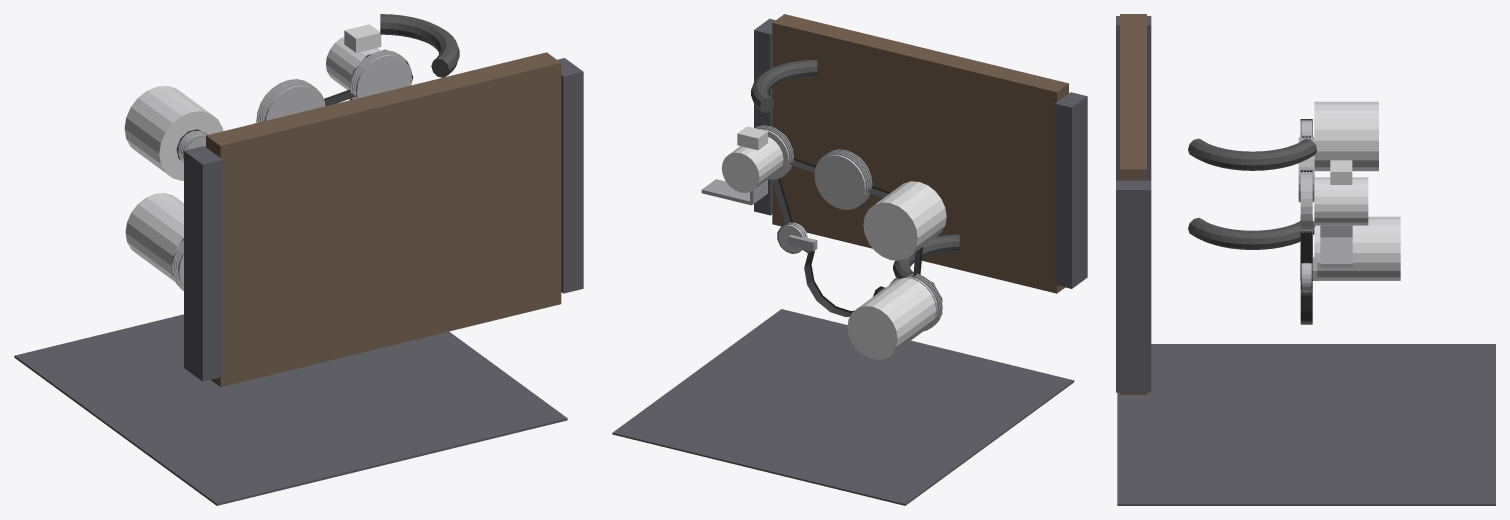
Rendered from access.glb.
The picture shows the model from 3 angles, left to right: view 1: azimuth 30°, elevation 25°; view 2: azimuth 150°, elevation 25°; view 3: azimuth 270°, elevation 25°; orthographic projection. The views are drawn at different scales.
Visible parts, largest first — view 1: radiator-assembly, engine-under-cover, alternator, power-steering-pump, ac-compressor, radiator-hose-upper, water-pump-pulley; view 2: radiator-assembly, engine-under-cover, ac-compressor, alternator, power-steering-pump, water-pump-pulley, accessory-drive-belt, radiator-hose-upper, radiator-hose-lower, power-steering-pump-bracket, accessory-belt-tensioner; view 3: engine-under-cover, radiator-assembly, alternator, ac-compressor, power-steering-pump, radiator-hose-upper, radiator-hose-lower, power-steering-pump-bracket, accessory-drive-belt, accessory-belt-tensioner, water-pump-pulley.
Part boxes in pixels (x1,y1,x2,y2): radiator-assembly: (184,52,583,387); engine-under-cover: (14,314,567,505); alternator: (124,86,223,180); power-steering-pump: (326,24,411,99); ac-compressor: (125,193,183,290); radiator-hose-upper: (380,14,459,77); water-pump-pulley: (256,79,325,122); radiator-assembly: (754,14,1087,293); engine-under-cover: (612,309,1074,505); ac-compressor: (847,273,942,359); alternator: (863,181,946,260); power-steering-pump: (721,125,793,192); water-pump-pulley: (814,149,872,209); accessory-drive-belt: (764,125,942,329); radiator-hose-upper: (751,59,817,112); radiator-hose-lower: (893,234,959,278); power-steering-pump-bracket: (701,179,767,205); accessory-belt-tensioner: (778,222,817,252); engine-under-cover: (1117,344,1495,505); radiator-assembly: (1116,14,1151,394); alternator: (1301,101,1378,171); ac-compressor: (1300,216,1400,280); power-steering-pump: (1300,160,1368,232); radiator-hose-upper: (1188,138,1316,170); radiator-hose-lower: (1188,217,1315,249); power-steering-pump-bracket: (1320,225,1352,267); accessory-drive-belt: (1300,119,1312,324); accessory-belt-tensioner: (1301,257,1317,292); water-pump-pulley: (1298,136,1314,202).
Bounding box in the file's own units: 0.76 × 0.682 × 0.7025.
